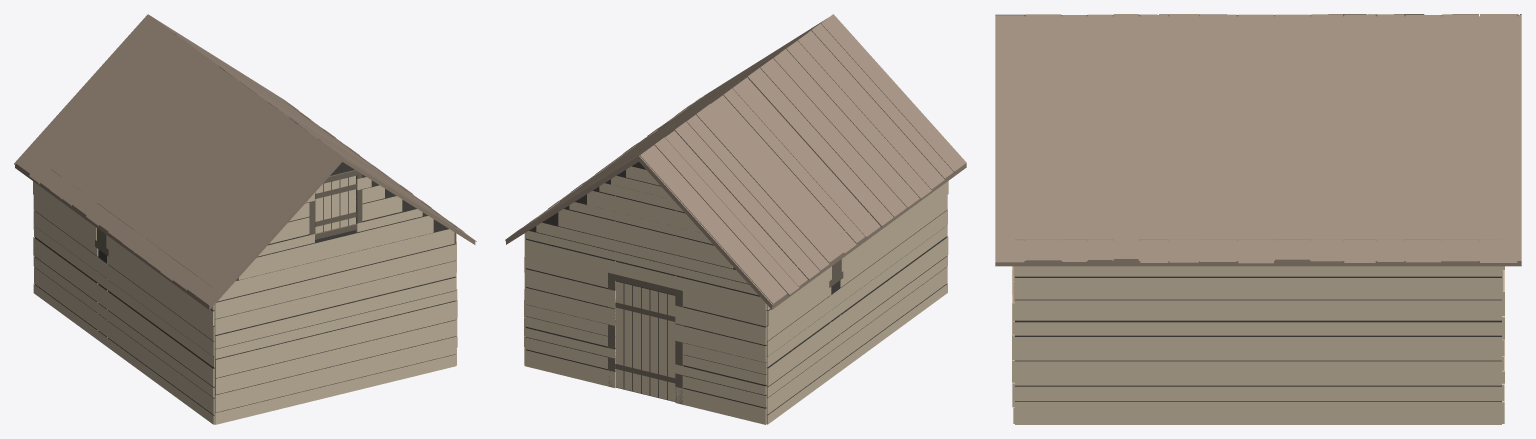
File: recon_1835_north_a1_032__inferred_1835.glb
The picture shows the model from 3 angles, left to right: view 1: azimuth 30°, elevation 25°; view 2: azimuth 150°, elevation 25°; view 3: azimuth 270°, elevation 25°; orthographic projection. The views are drawn at different scales.
Parts seen in each view (by area): view 1: recon_1835_north_a1_032__inferred_1835; view 2: recon_1835_north_a1_032__inferred_1835; view 3: recon_1835_north_a1_032__inferred_1835.
Boxes of the visible parts, x1,y1,x2,y2 form: recon_1835_north_a1_032__inferred_1835: [14, 14, 476, 424]; recon_1835_north_a1_032__inferred_1835: [505, 14, 966, 424]; recon_1835_north_a1_032__inferred_1835: [995, 14, 1521, 424].
Bounding box in the file's own units: 6.04 × 5.22 × 7.54.
